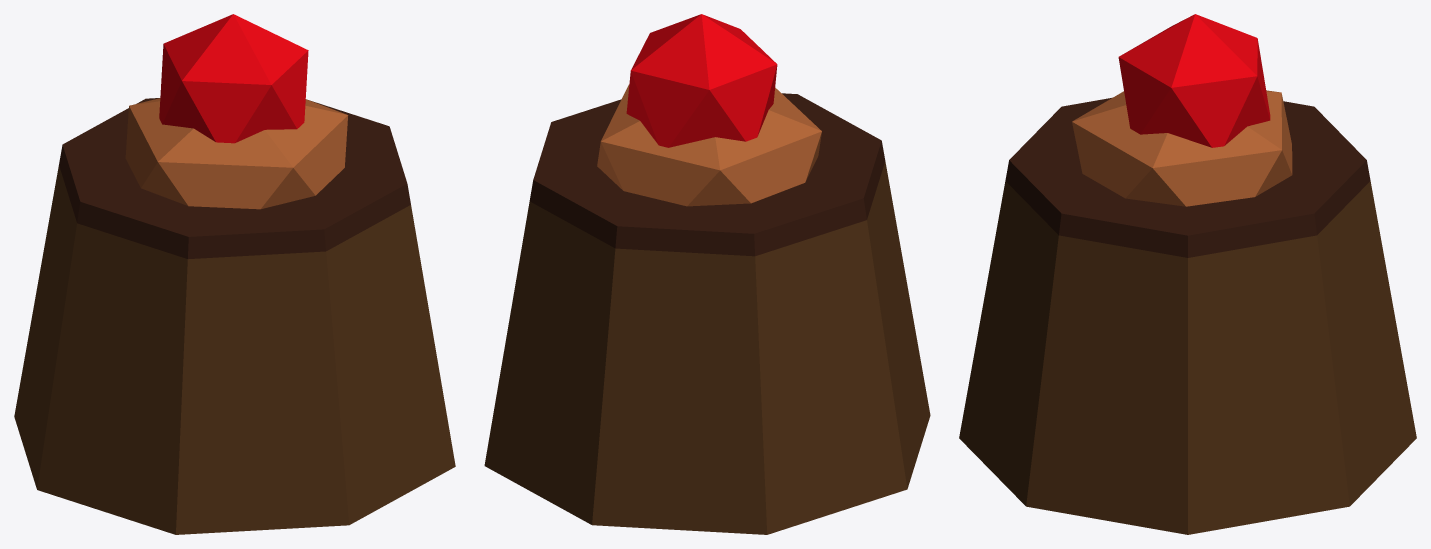
File: pudding_chocolate.fbx
3 views of the same model, side by side, from view 1: azimuth 30°, elevation 25°; view 2: azimuth 150°, elevation 25°; view 3: azimuth 270°, elevation 25° (orthographic).
Parts seen in each view (by area): view 1: pudding_chocolate; view 2: pudding_chocolate; view 3: pudding_chocolate.
Boxes of the visible parts, x1,y1,x2,y2 form: pudding_chocolate: (14,14,455,534); pudding_chocolate: (484,14,930,534); pudding_chocolate: (959,14,1416,534).
Size of the model in its own units: 7.15 by 7.33 by 7.15.
